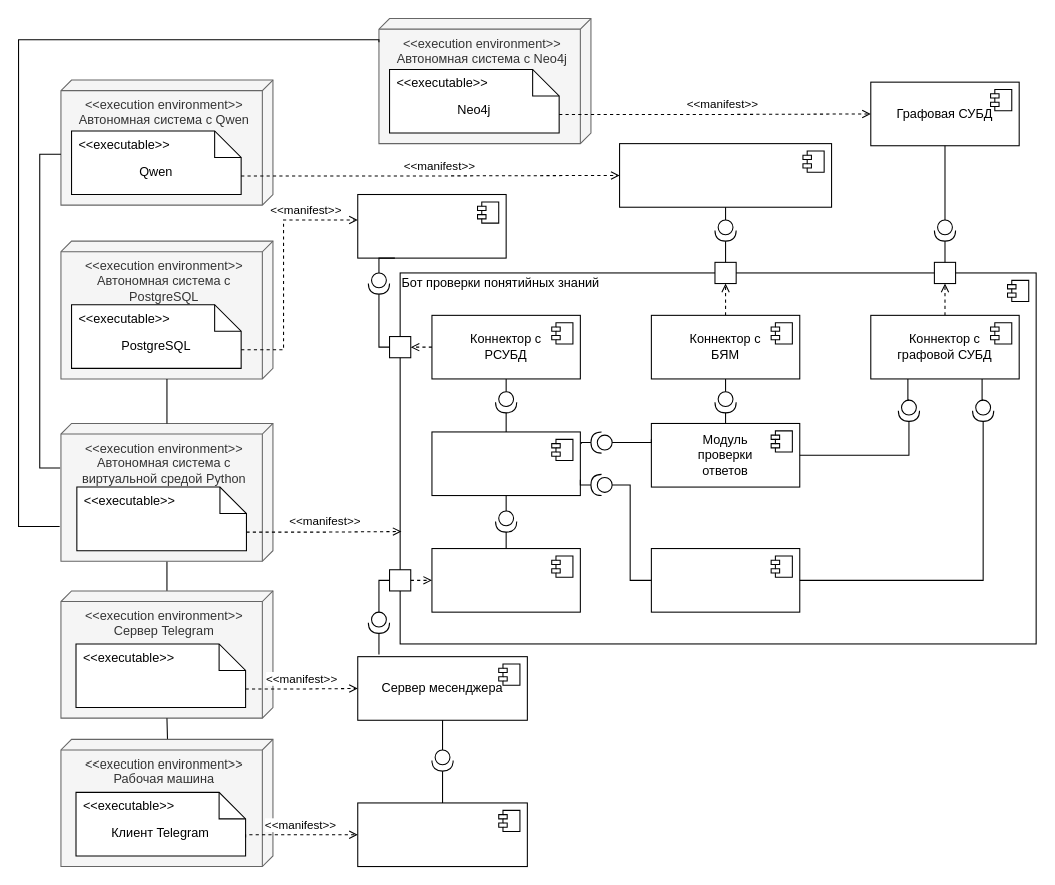
Some shapes in this 1055 by 885 pixel diagram are drawn without their labels. The centre of each missing label's shape, as x and y in pixels:
"Большая языковая модель" goes at pixel 725 175.
"Бот Telegram" goes at pixel 161 518.
"Генератор задач" goes at pixel 725 579.
"Клиент месенджера" goes at pixel 442 834.
"Обработчики команд" goes at pixel 505 463.
"Приём ввода пользователя" goes at pixel 505 579.
"Реляционная СУБД" goes at pixel 431 225.
"Серверная часть Telegram" goes at pixel 160 675.
